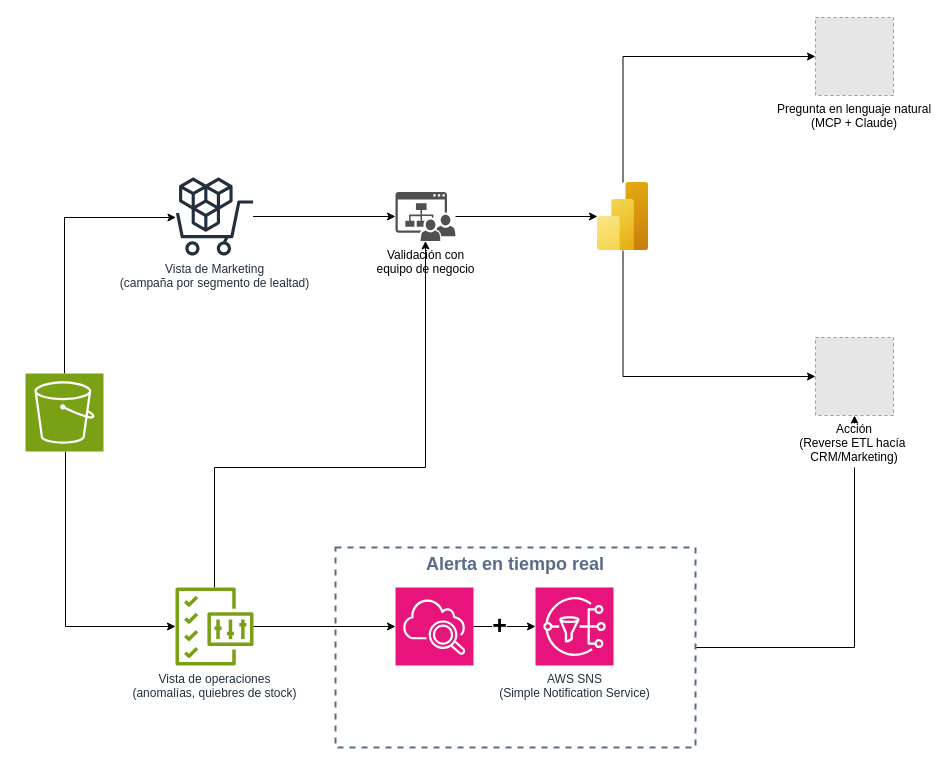
Some shapes in this 950 by 766 pixel diagram are drawn without their labels. Grey dashed boxes stand in for pictures. The box of each missing label's shape, as (x1, y1, x2, y2) in pixels:
AWS CloudWatch: (394, 586, 474, 666)
Dashboard Power BI: (597, 182, 648, 250)
Gold: data/refined: (24, 372, 104, 452)
